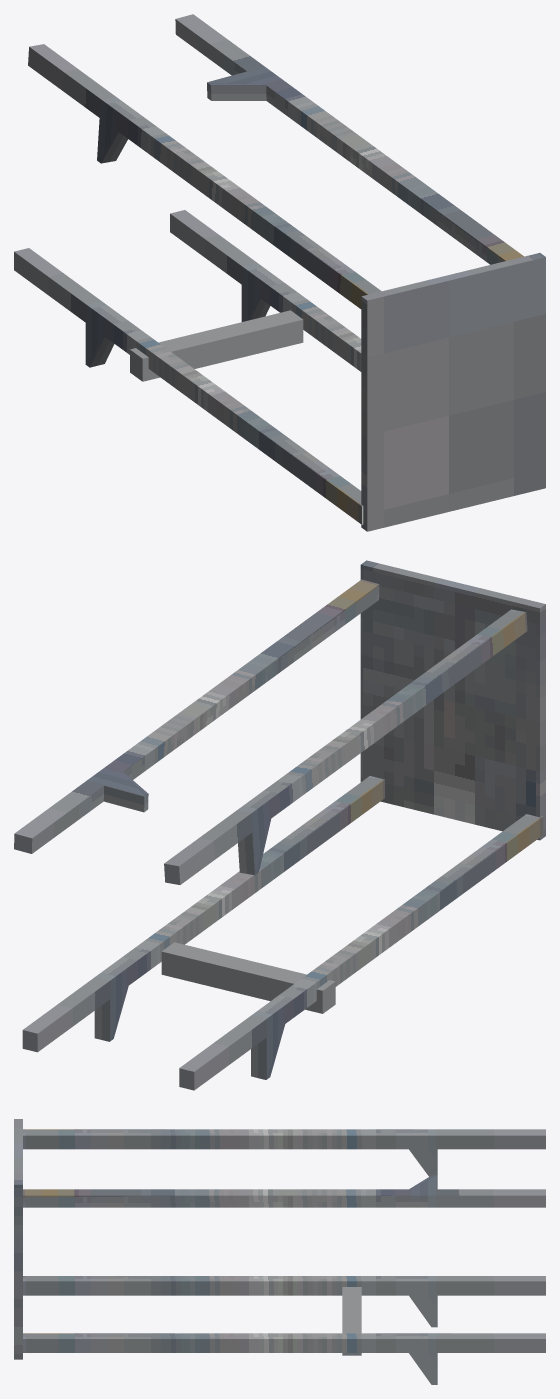
Rendered from 031_highrisermiddle.gltf.
The picture shows the model from 3 angles, top to bottom: view 1: azimuth 30°, elevation 25°; view 2: azimuth 150°, elevation 25°; view 3: azimuth 270°, elevation 25°; orthographic projection. The views are drawn at different scales.
Parts seen in each view (by area): view 1: highrisermiddle; view 2: highrisermiddle; view 3: highrisermiddle.
Boxes of the visible parts, bbox=[...] form: highrisermiddle: bbox=[14, 14, 545, 531]; highrisermiddle: bbox=[14, 560, 545, 1090]; highrisermiddle: bbox=[14, 1119, 545, 1384].
Bounding box in the file's own units: 3.85 × 5.32 × 12.61.
1 material, 1 textured.
